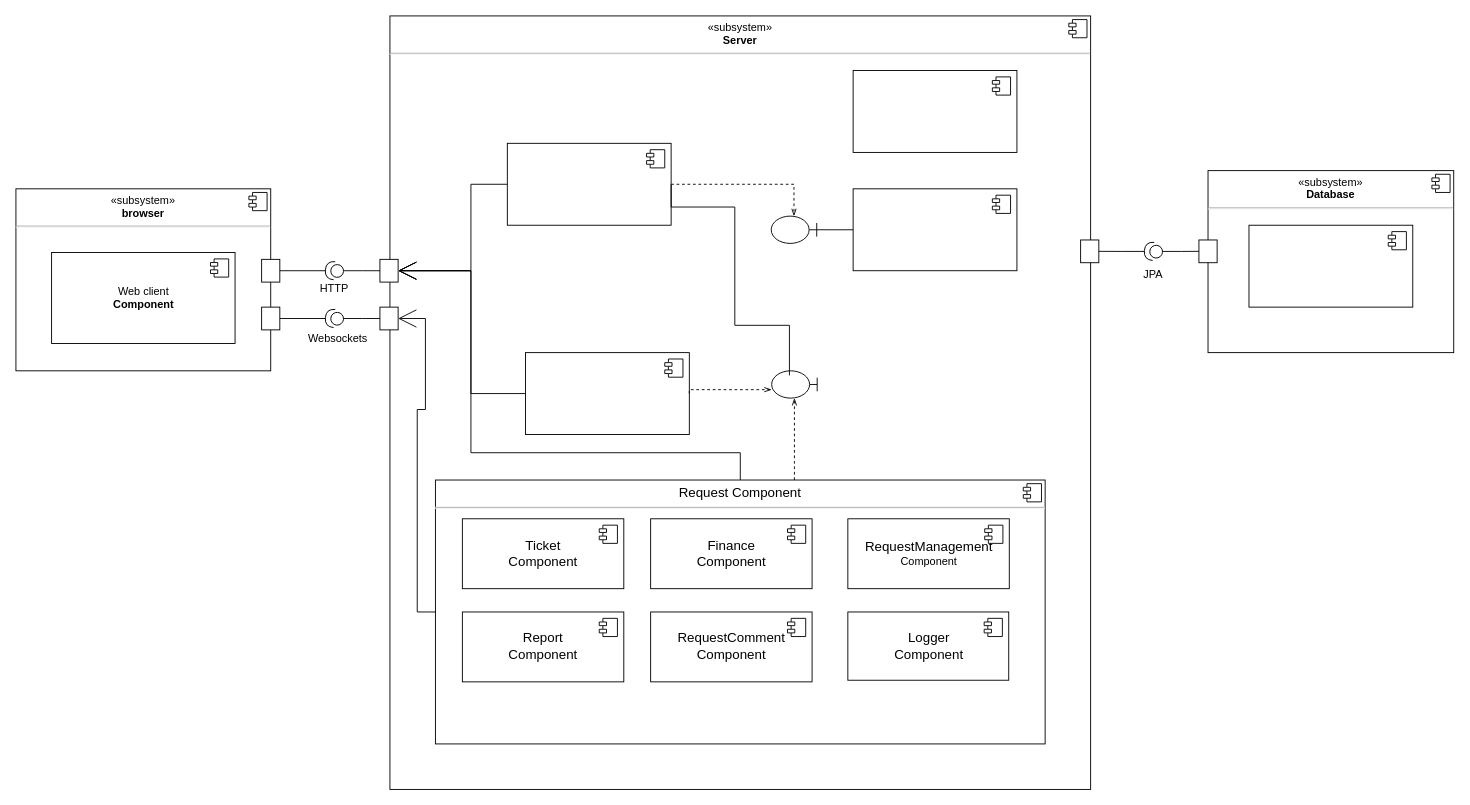
This 1470x805 diagram has some shape labels left out. The shapes that lost their labels are listed below. From the top down, each one's centre as x and y in pixels, then its label:
At point 934,111: "Util Component".
At point 588,183: "UserManagement Component".
At point 934,229: "Security Component".
At point 1330,265: "Database Component".
At point 607,393: "Group Component".
